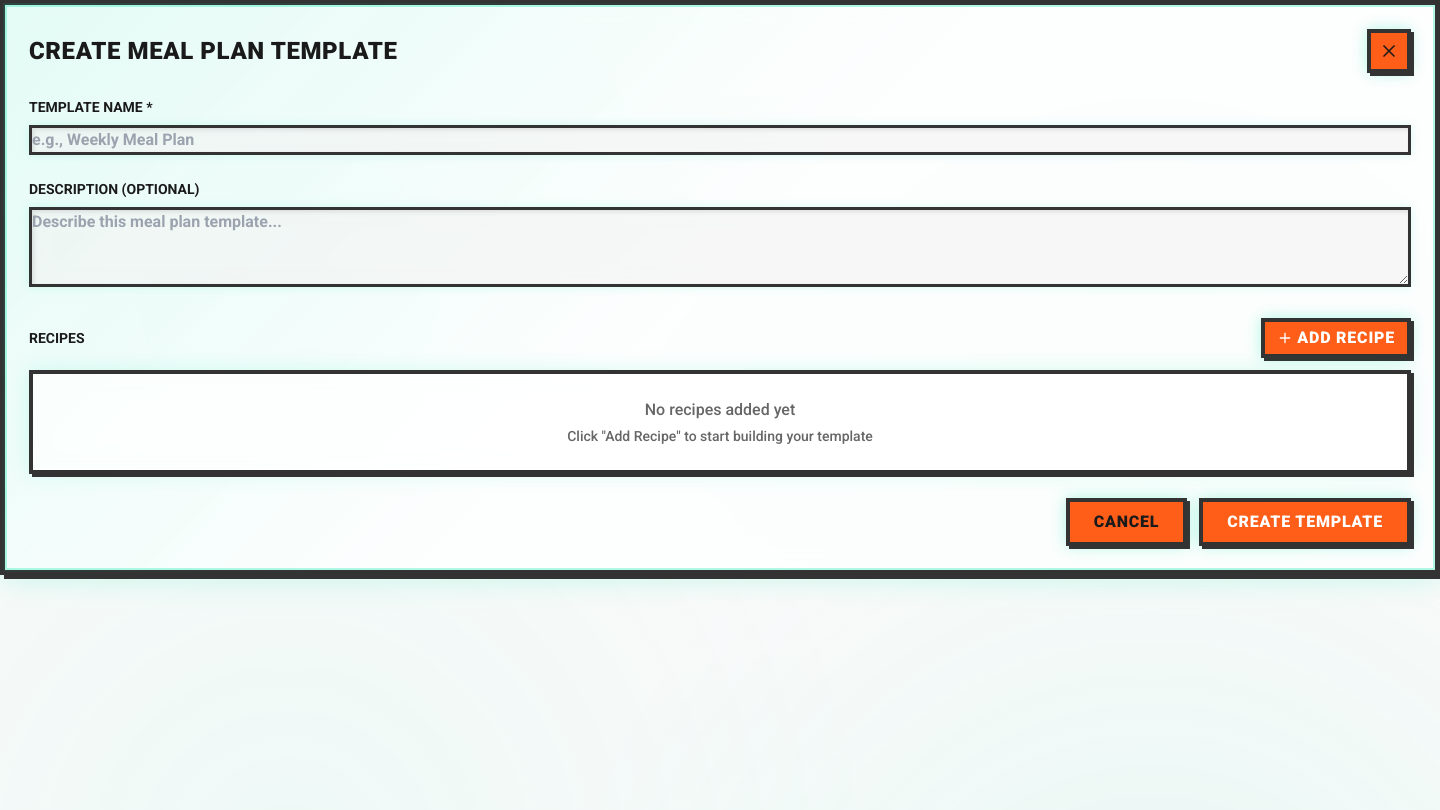
it: TemplateForm › validates at least one recipe is required
Expected: the button "CREATE TEMPLATE" is shown, [1199,498,1411,546]
In the field labelled "Template Name *": coordinates (720, 140) [29,125,1411,155], type "Test Template"
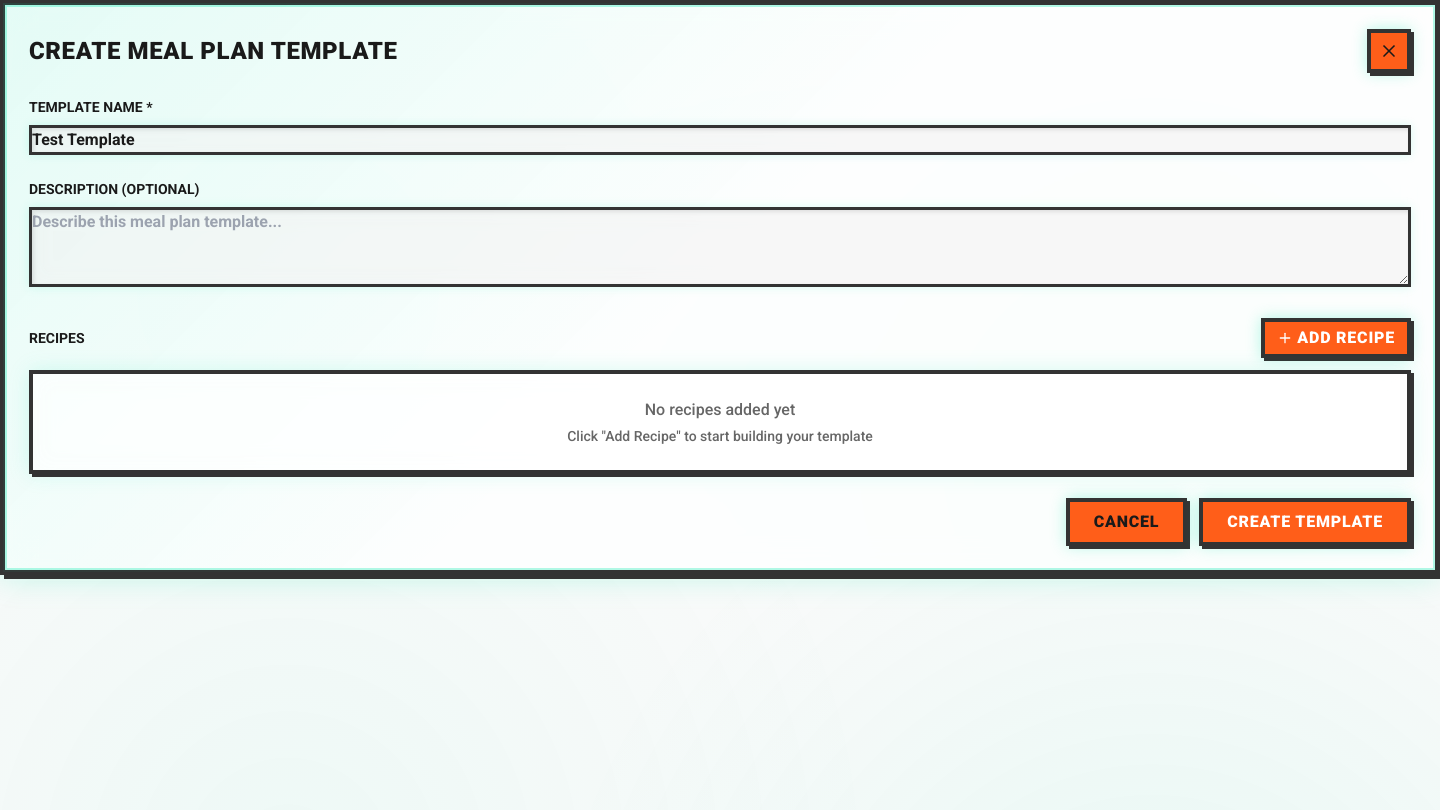
Click the button "CREATE TEMPLATE": coordinates (1305, 522) [1199,498,1411,546]
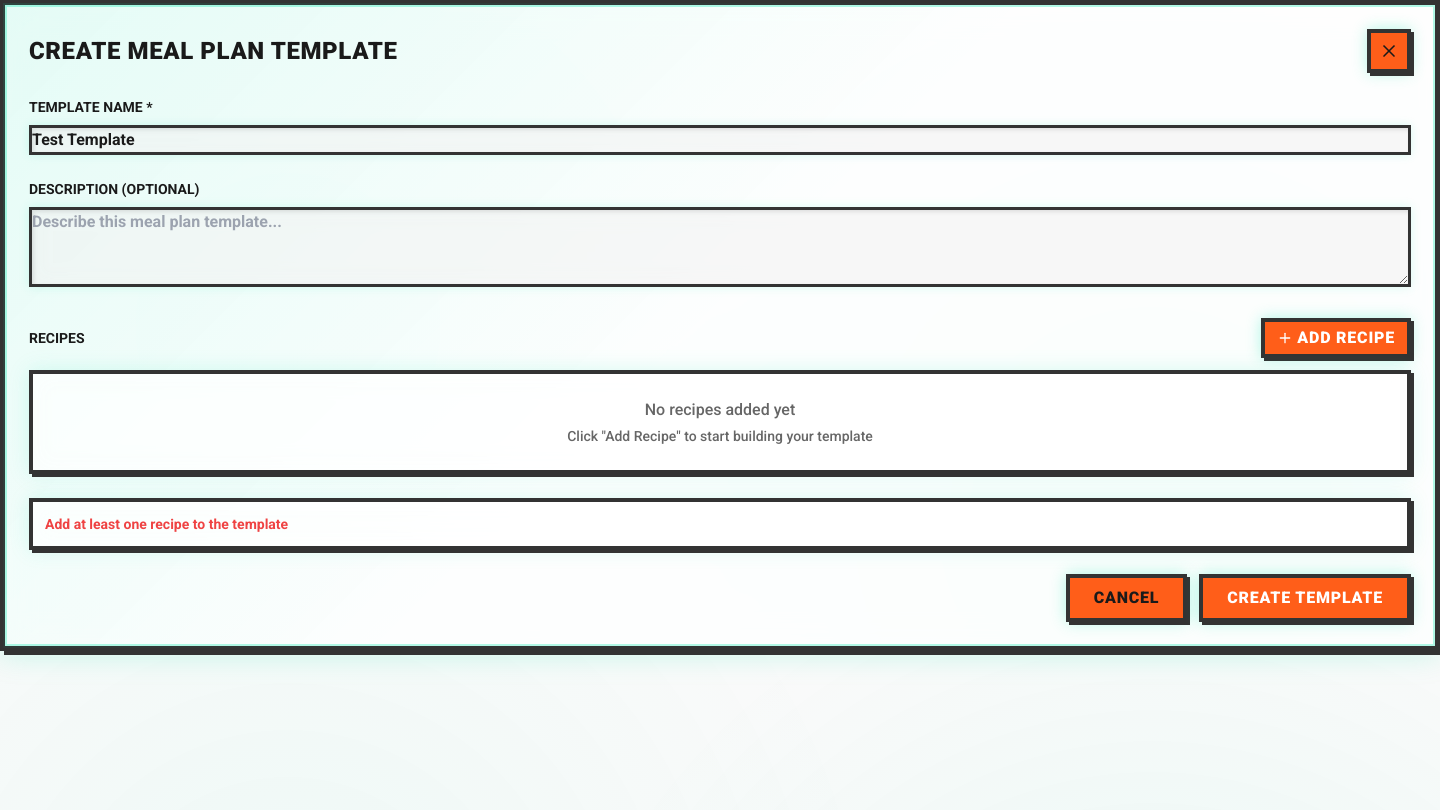
Expected: the text "Add at least one recipe to the template" is shown, [29,498,1411,550]
